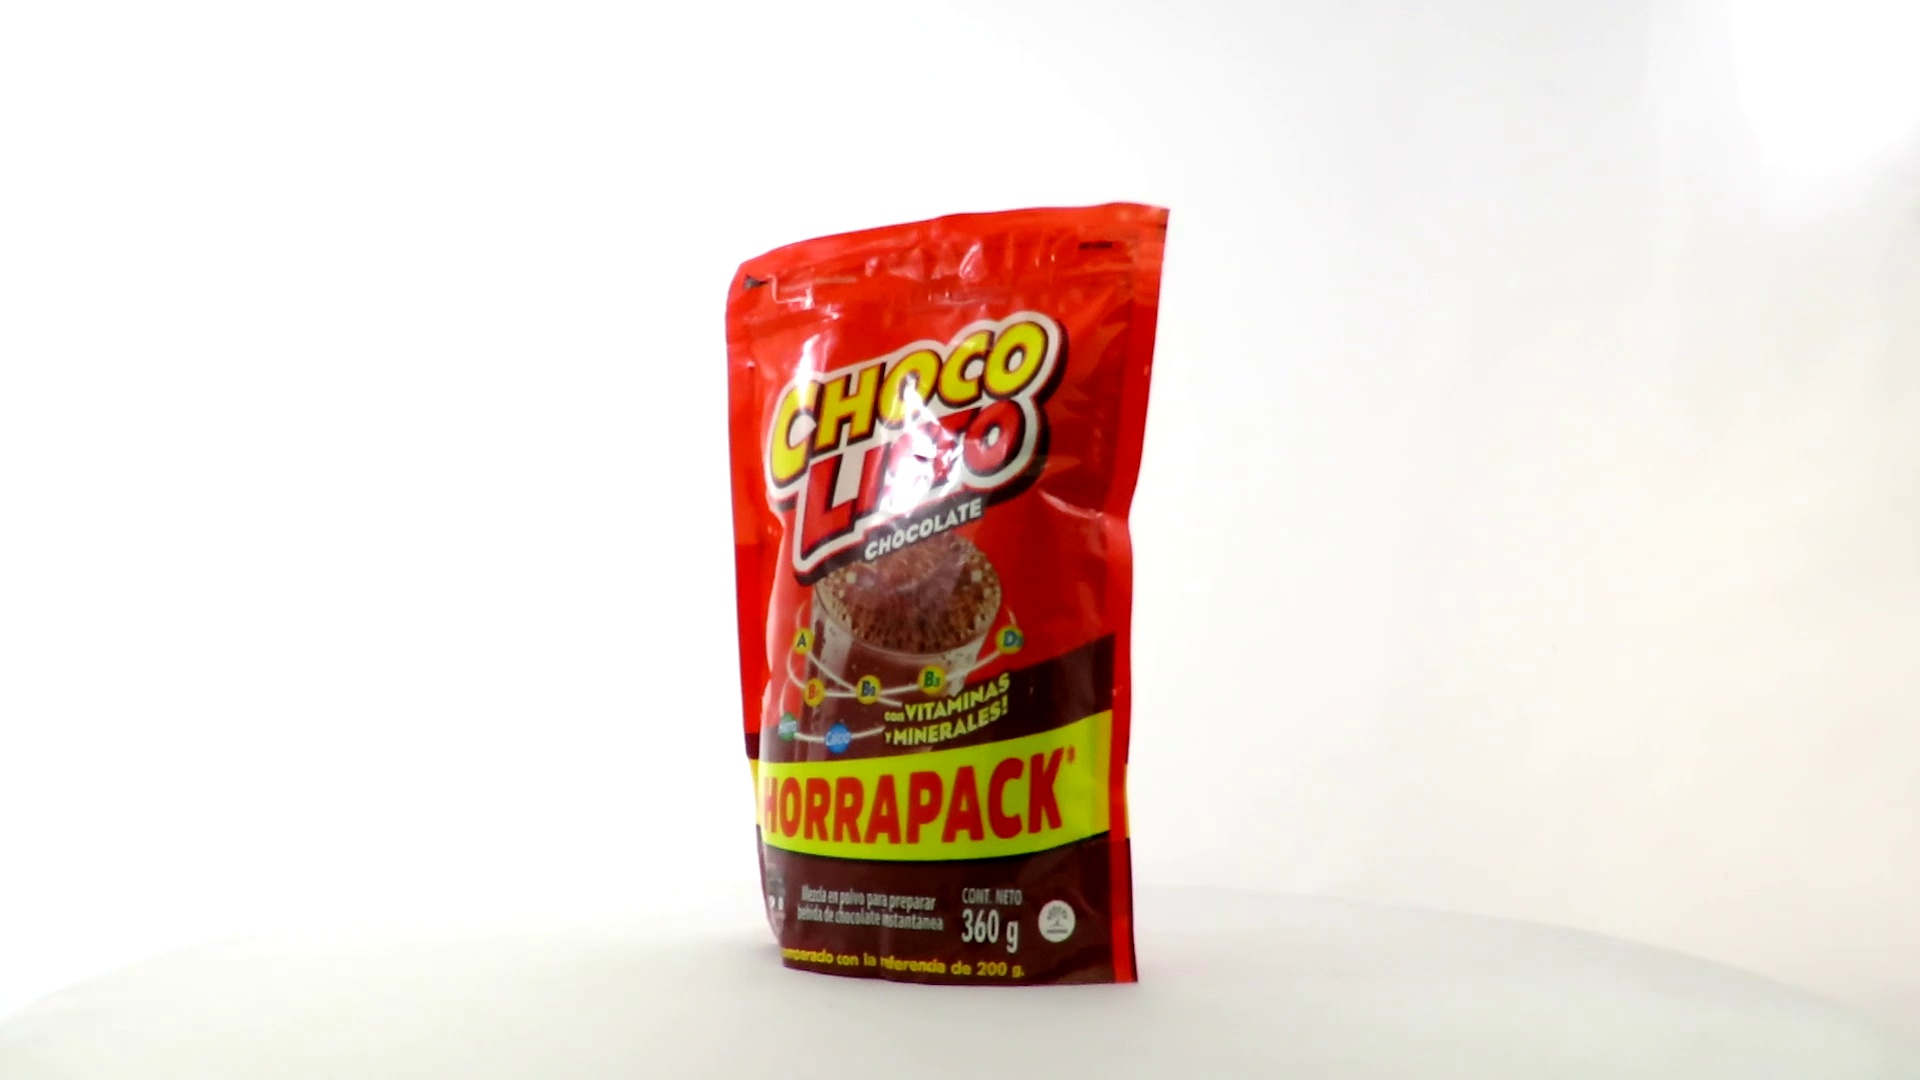COL0170103DYP36000: (720, 196, 1176, 993)
